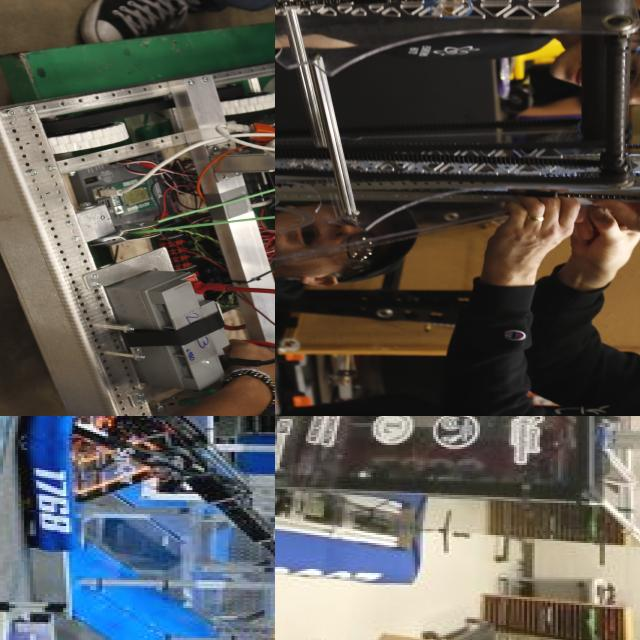FRC-Robots: (0, 44, 275, 416), (275, 0, 640, 225), (275, 416, 640, 628), (24, 416, 275, 570)
